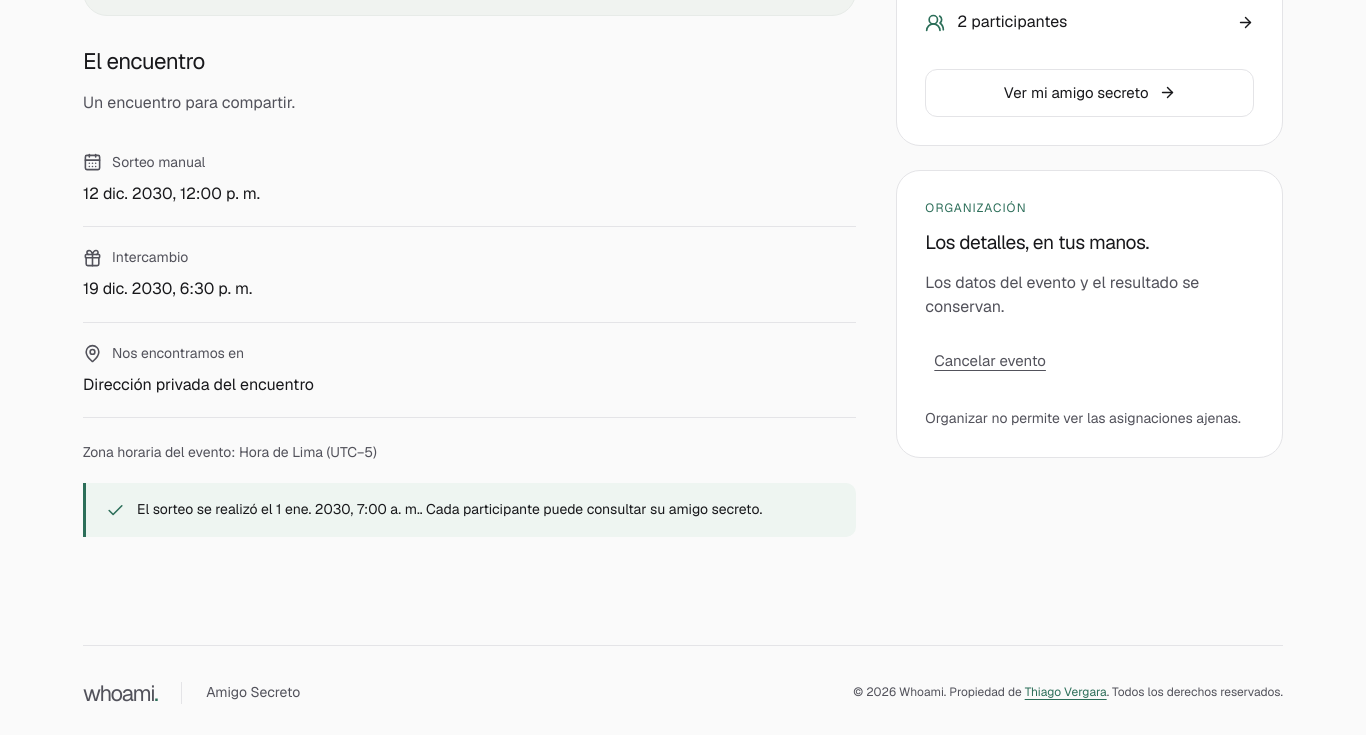
Test case: Organizar y participar › el organizador cancela un evento sorteado y el participante conserva su resultado histórico
(page scrolled)
Click the button "Cancelar evento". click: click(990, 360)
box: [925,336,1055,384]
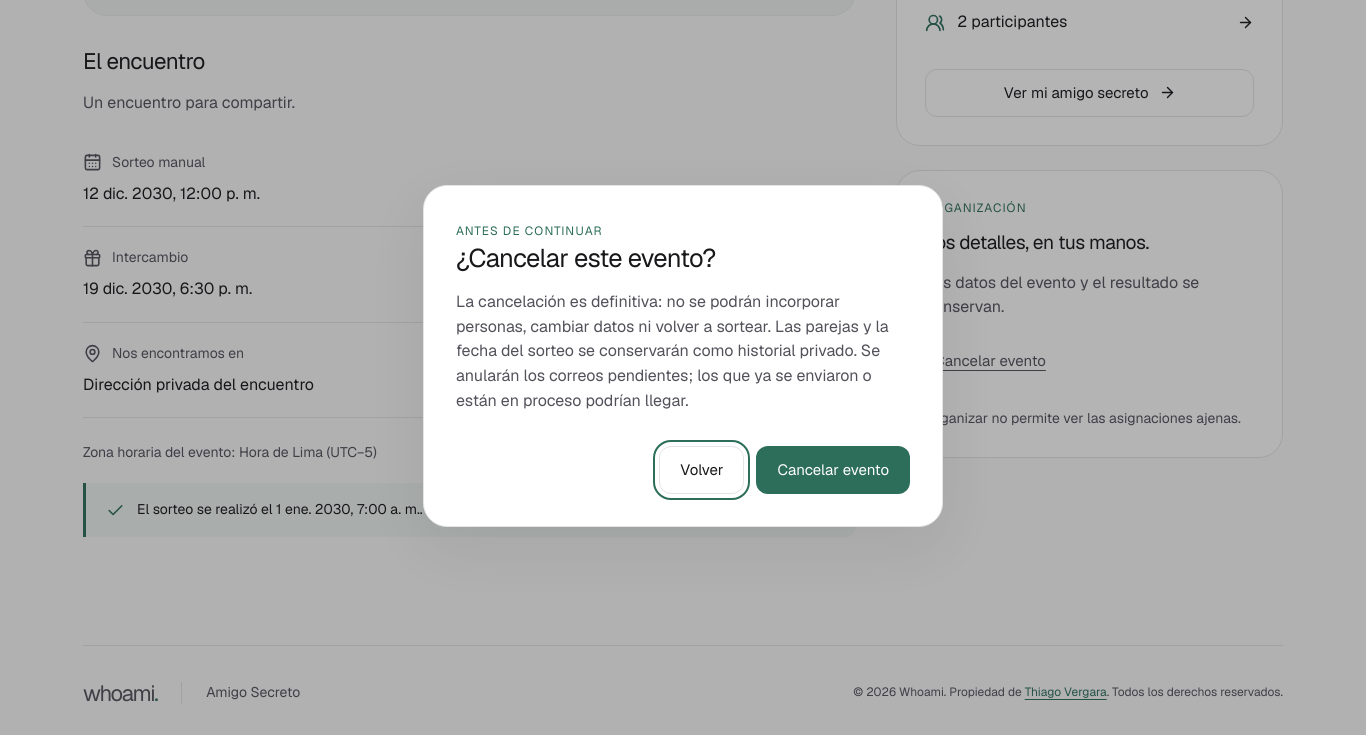
Now the text "Las parejas y la fecha del sorteo se conservarán" is shown, box [456,291,889,411]
Click the button "Cancelar evento". click: click(833, 470)
box: [756,446,910,494]
(page scrolled)
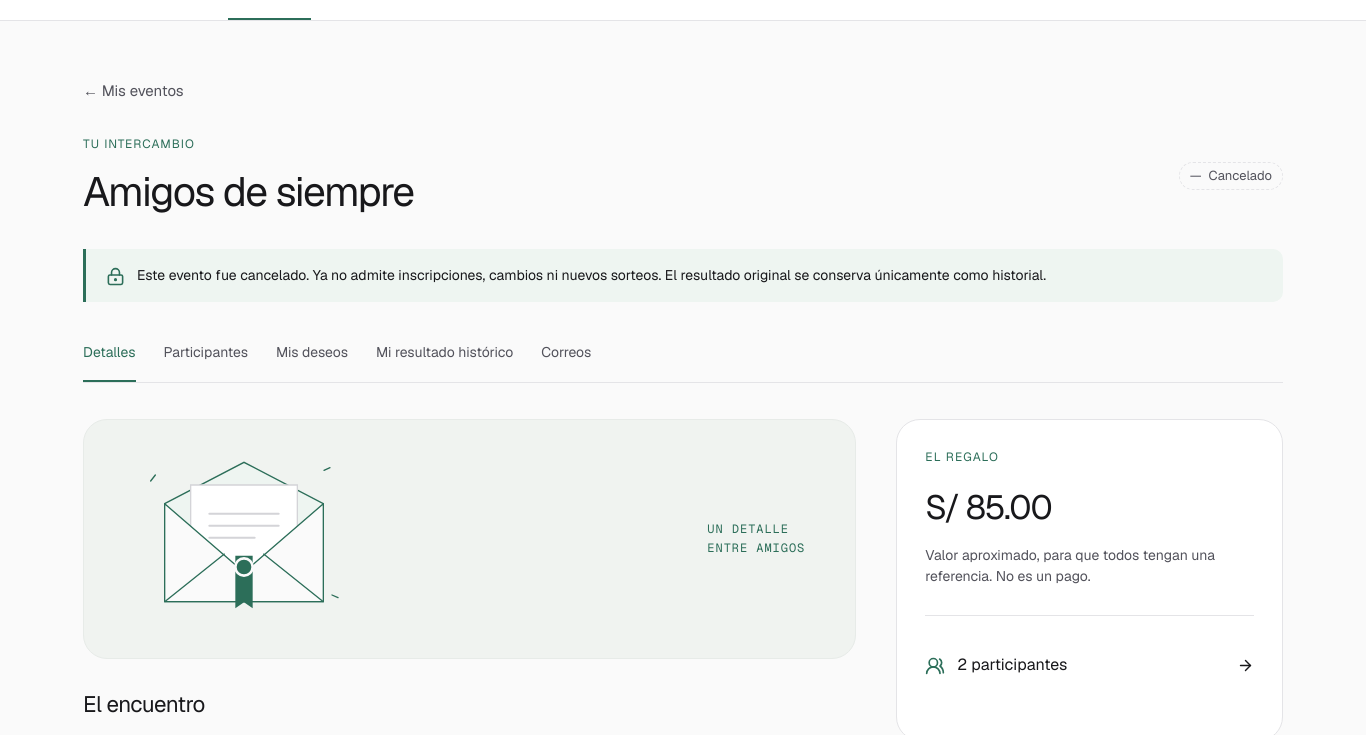
Now the text "El resultado original se conserva únicamente como historial" is shown, box [661,266,1046,284]
Click the link "Mi resultado histórico". click: click(445, 352)
box: [376,343,513,361]
(page scrolled)
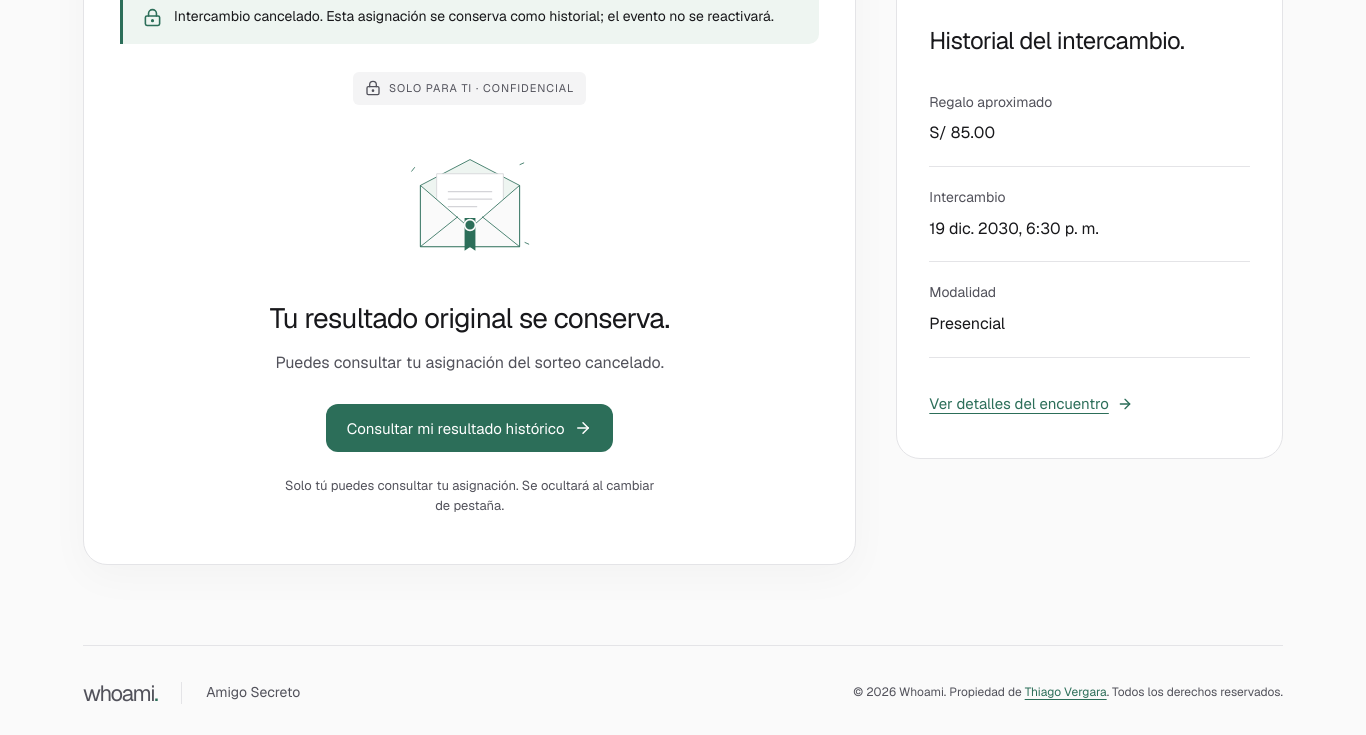
Click the button "Consultar mi resultado histórico". click: click(470, 428)
box: [326,404,613,452]
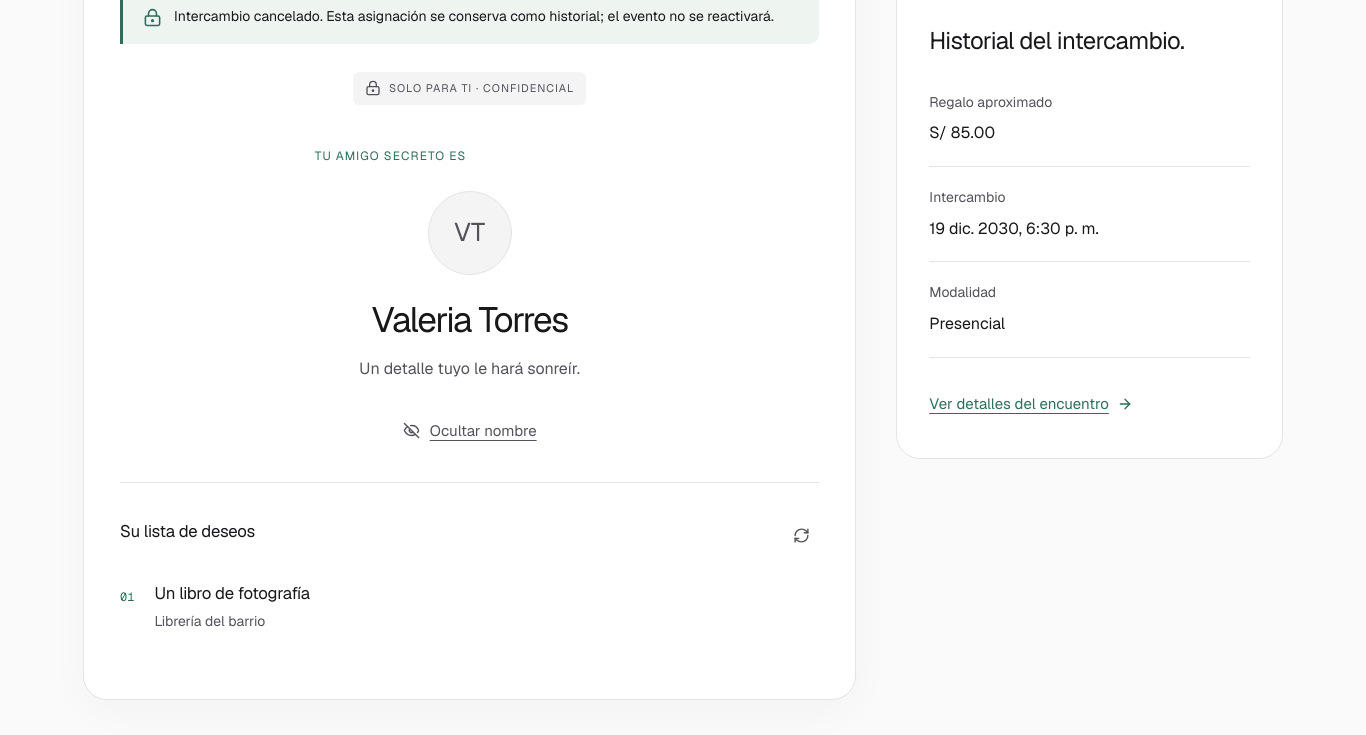
Now the heading "Valeria Torres" is shown, box [371,297,568,342]
